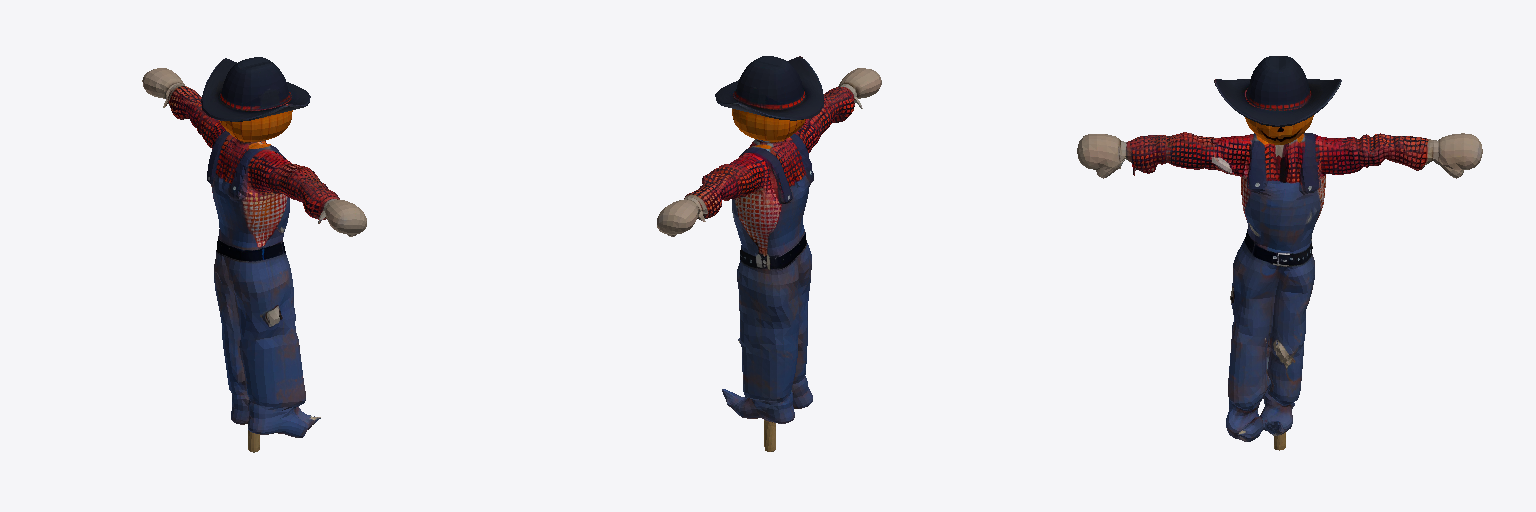
3 renders of one model, left to right at view 1: azimuth 30°, elevation 25°; view 2: azimuth 150°, elevation 25°; view 3: azimuth 270°, elevation 25°, orthographic.
Parts seen in each view (by area): view 1: tripo_node_ab772167-57b5-4f84-84f3-78cdce76f2bb; view 2: tripo_node_ab772167-57b5-4f84-84f3-78cdce76f2bb; view 3: tripo_node_ab772167-57b5-4f84-84f3-78cdce76f2bb.
Part boxes in pixels (left/top/right/bottom): tripo_node_ab772167-57b5-4f84-84f3-78cdce76f2bb: left=142, top=57, right=366, bottom=452; tripo_node_ab772167-57b5-4f84-84f3-78cdce76f2bb: left=657, top=56, right=881, bottom=451; tripo_node_ab772167-57b5-4f84-84f3-78cdce76f2bb: left=1077, top=56, right=1482, bottom=450.
Bounding box in the file's own units: 0.2511 × 0.9482 × 0.896.
1 materials, 1 textured.